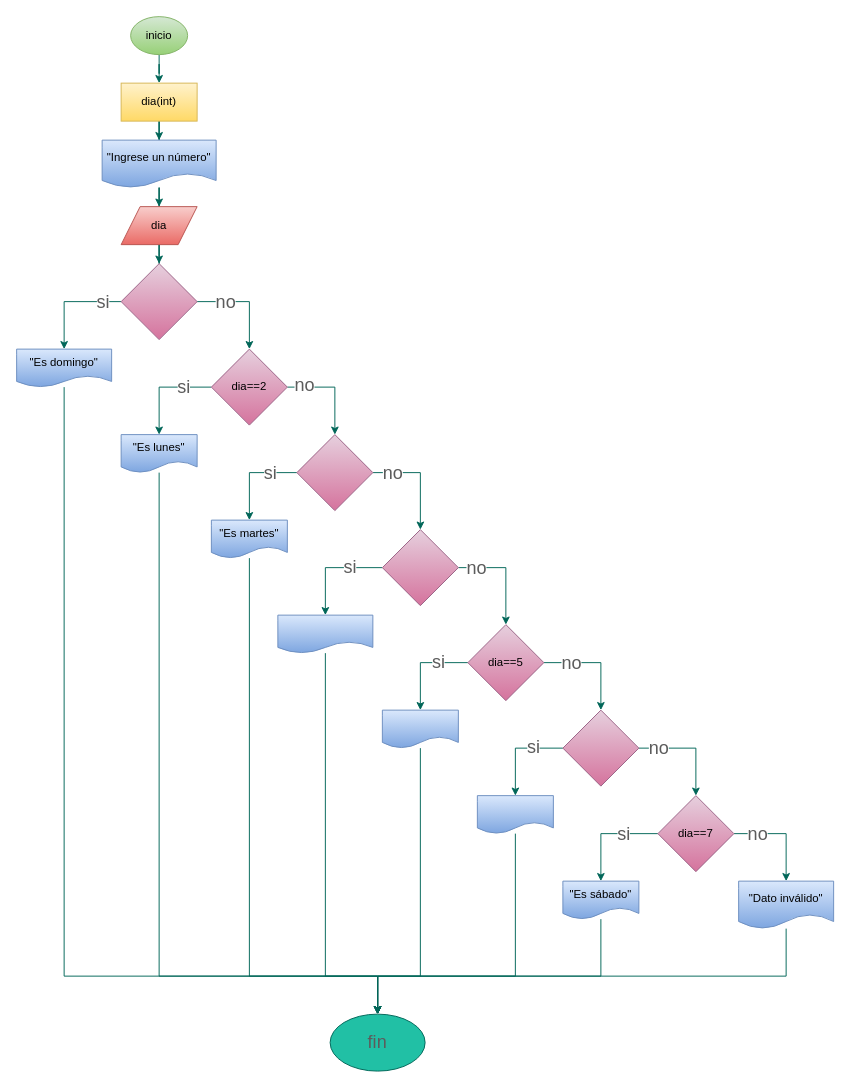
Image size: 850x1088. Some labels were removed from this diagram. Here are the shapes that lost their labels. From the top down, the centre of each, then its label:
point 158,301: dia==1
point 334,472: dia==3
point 419,567: dia==4
point 325,633: "Es miércoles"
point 419,728: "Es jueves"
point 600,747: dia==6
point 514,814: "Es viernes"
